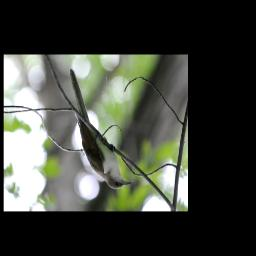Cuckoo: (67, 67, 132, 191)
